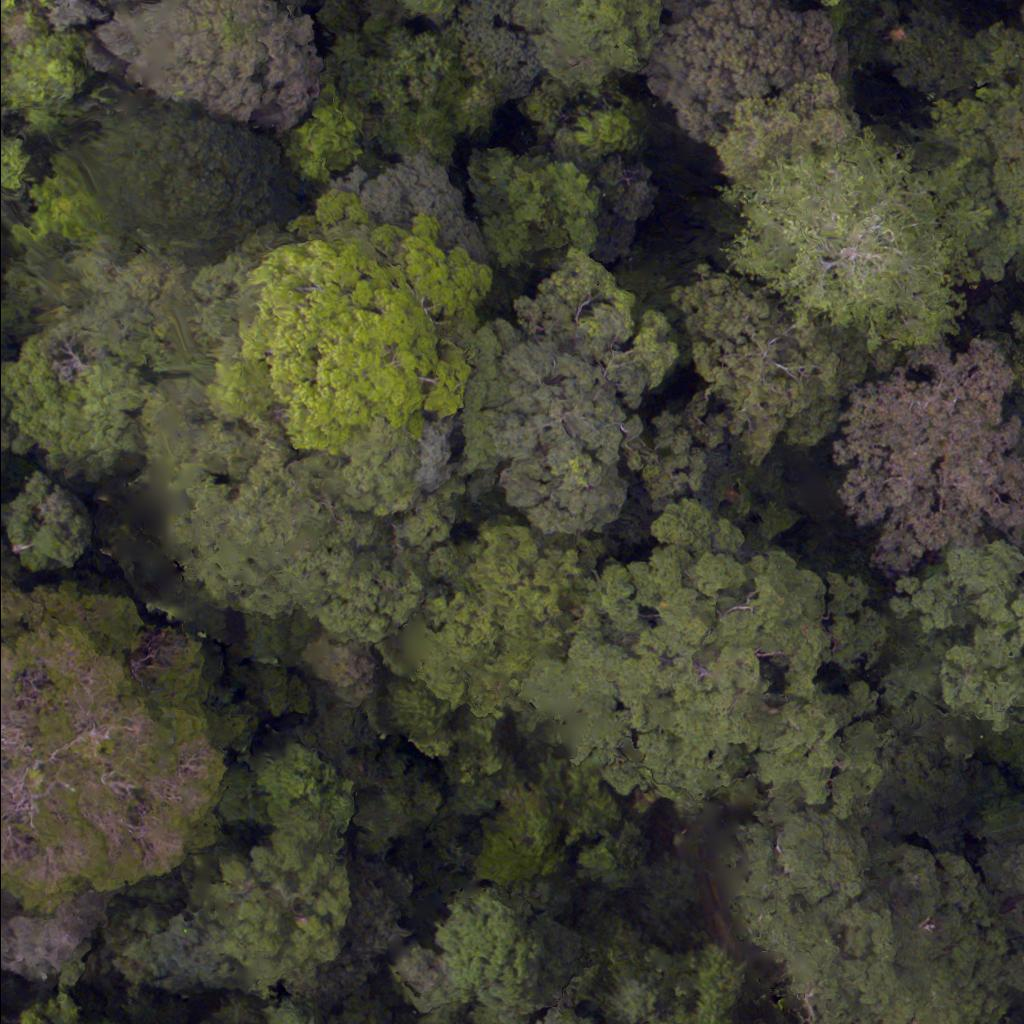crown: (530, 505, 882, 816), (131, 382, 468, 644), (0, 580, 241, 917), (213, 193, 491, 453), (100, 737, 356, 989), (737, 799, 1001, 1023), (463, 267, 674, 531), (726, 131, 951, 349), (823, 338, 1023, 572), (401, 526, 579, 714), (85, 104, 291, 265), (94, 0, 324, 134), (325, 13, 498, 160), (653, 0, 844, 133), (685, 280, 825, 440), (0, 334, 148, 482), (910, 545, 1023, 719), (473, 140, 601, 271), (403, 899, 543, 1015), (949, 45, 1023, 263), (333, 156, 485, 260), (512, 0, 661, 91), (709, 78, 848, 169), (629, 389, 729, 505), (468, 782, 567, 889), (0, 475, 89, 574), (975, 813, 1023, 990), (282, 85, 368, 181), (461, 0, 537, 103), (11, 1001, 88, 1023), (1011, 309, 1023, 402), (0, 400, 16, 462)
